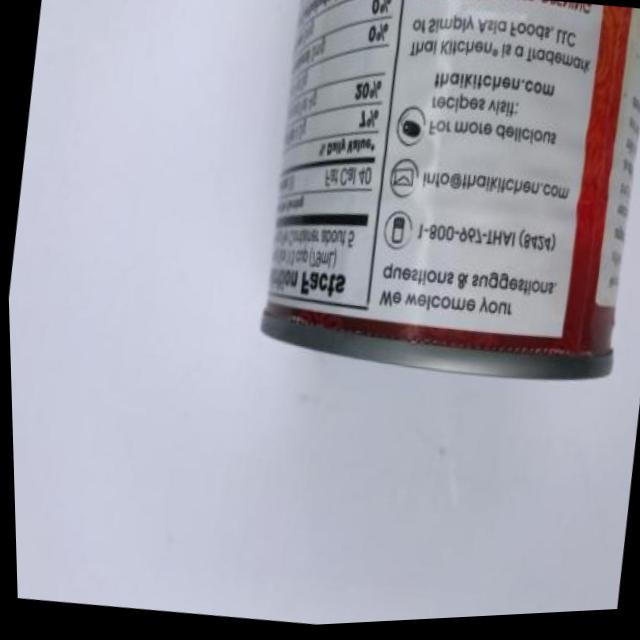metal: (262, 0, 639, 611)
